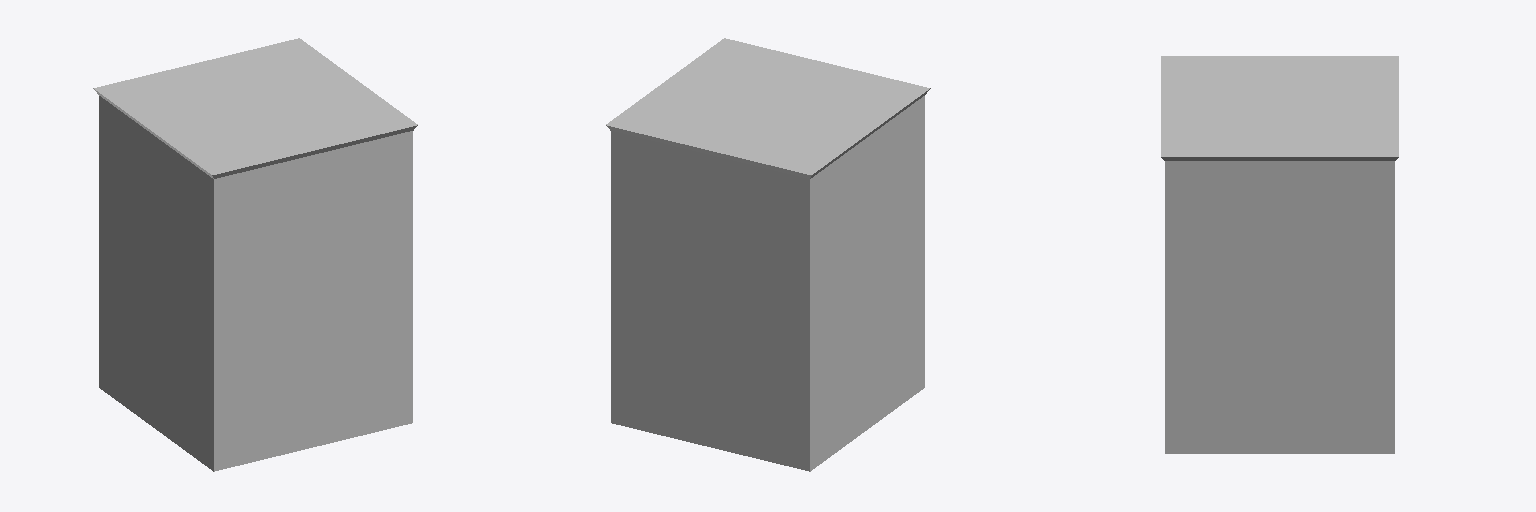
File: Edificio.obj
The picture shows the model from 3 angles: view 1: azimuth 30°, elevation 25°; view 2: azimuth 150°, elevation 25°; view 3: azimuth 270°, elevation 25°; orthographic projection.
Visible parts, largest first — view 1: Cube_Material.004; view 2: Cube_Material.004; view 3: Cube_Material.004.
Part boxes in pixels (x1,y1,x2,y2): Cube_Material.004: (93,38,417,471); Cube_Material.004: (606,38,930,471); Cube_Material.004: (1161,56,1398,453).
Bounding box in the file's own units: 20.66 × 28.57 × 20.66.